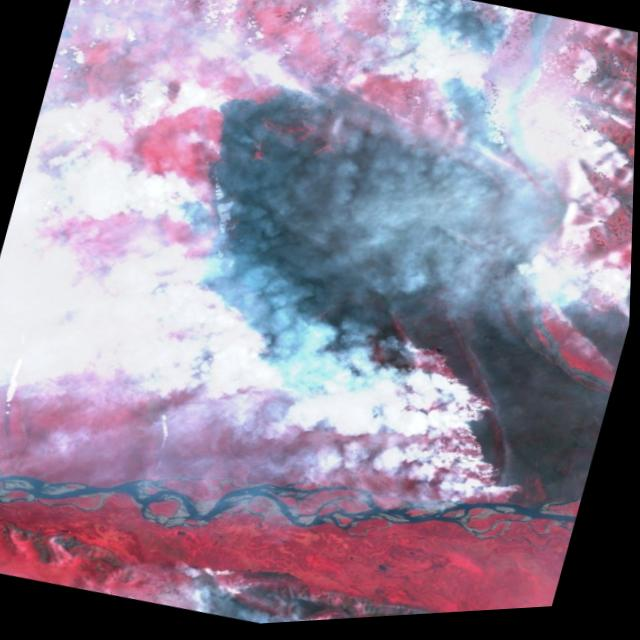fire: (50, 0, 640, 637)
